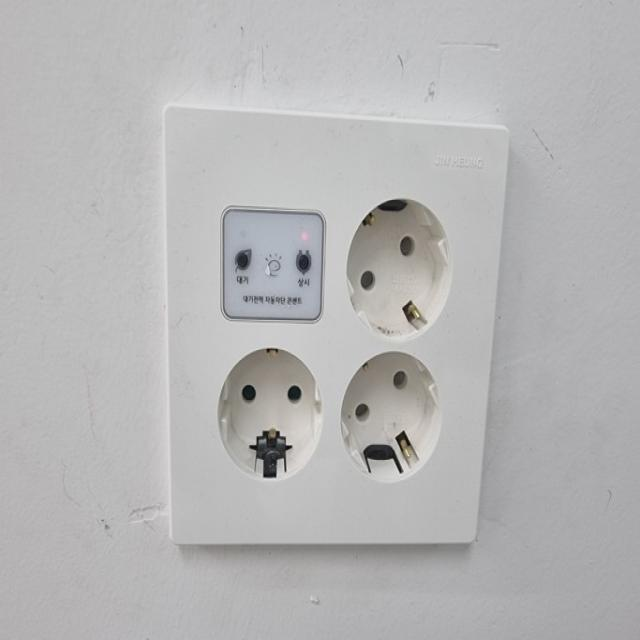typeb: (118, 74, 544, 630)
